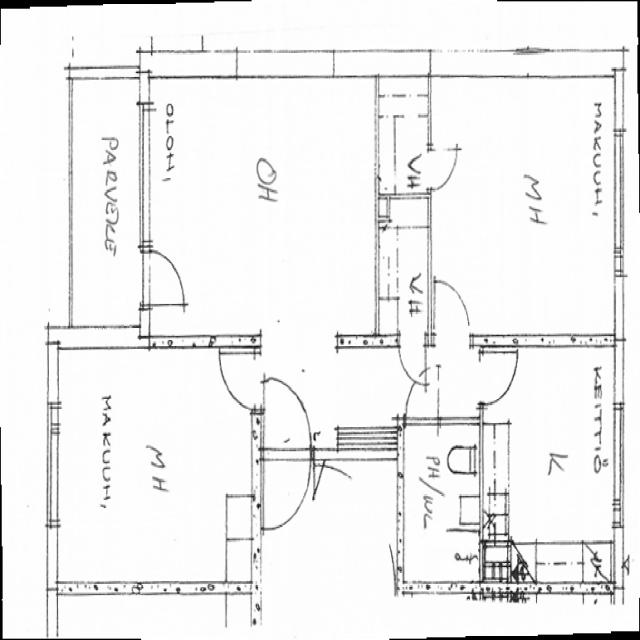door: (257, 383, 317, 538), (139, 240, 193, 316), (476, 338, 520, 414), (216, 343, 261, 417), (429, 272, 475, 338), (402, 366, 438, 431), (420, 139, 462, 190), (396, 336, 428, 384)
window: (41, 402, 65, 534), (136, 107, 158, 249), (521, 327, 610, 357), (144, 332, 215, 358), (610, 334, 628, 418), (42, 521, 63, 592)
zone: (150, 76, 382, 344), (49, 346, 260, 589), (430, 73, 617, 344), (482, 344, 622, 589), (71, 68, 147, 339), (397, 421, 483, 532), (377, 194, 430, 344), (376, 74, 430, 200), (404, 527, 482, 594)
